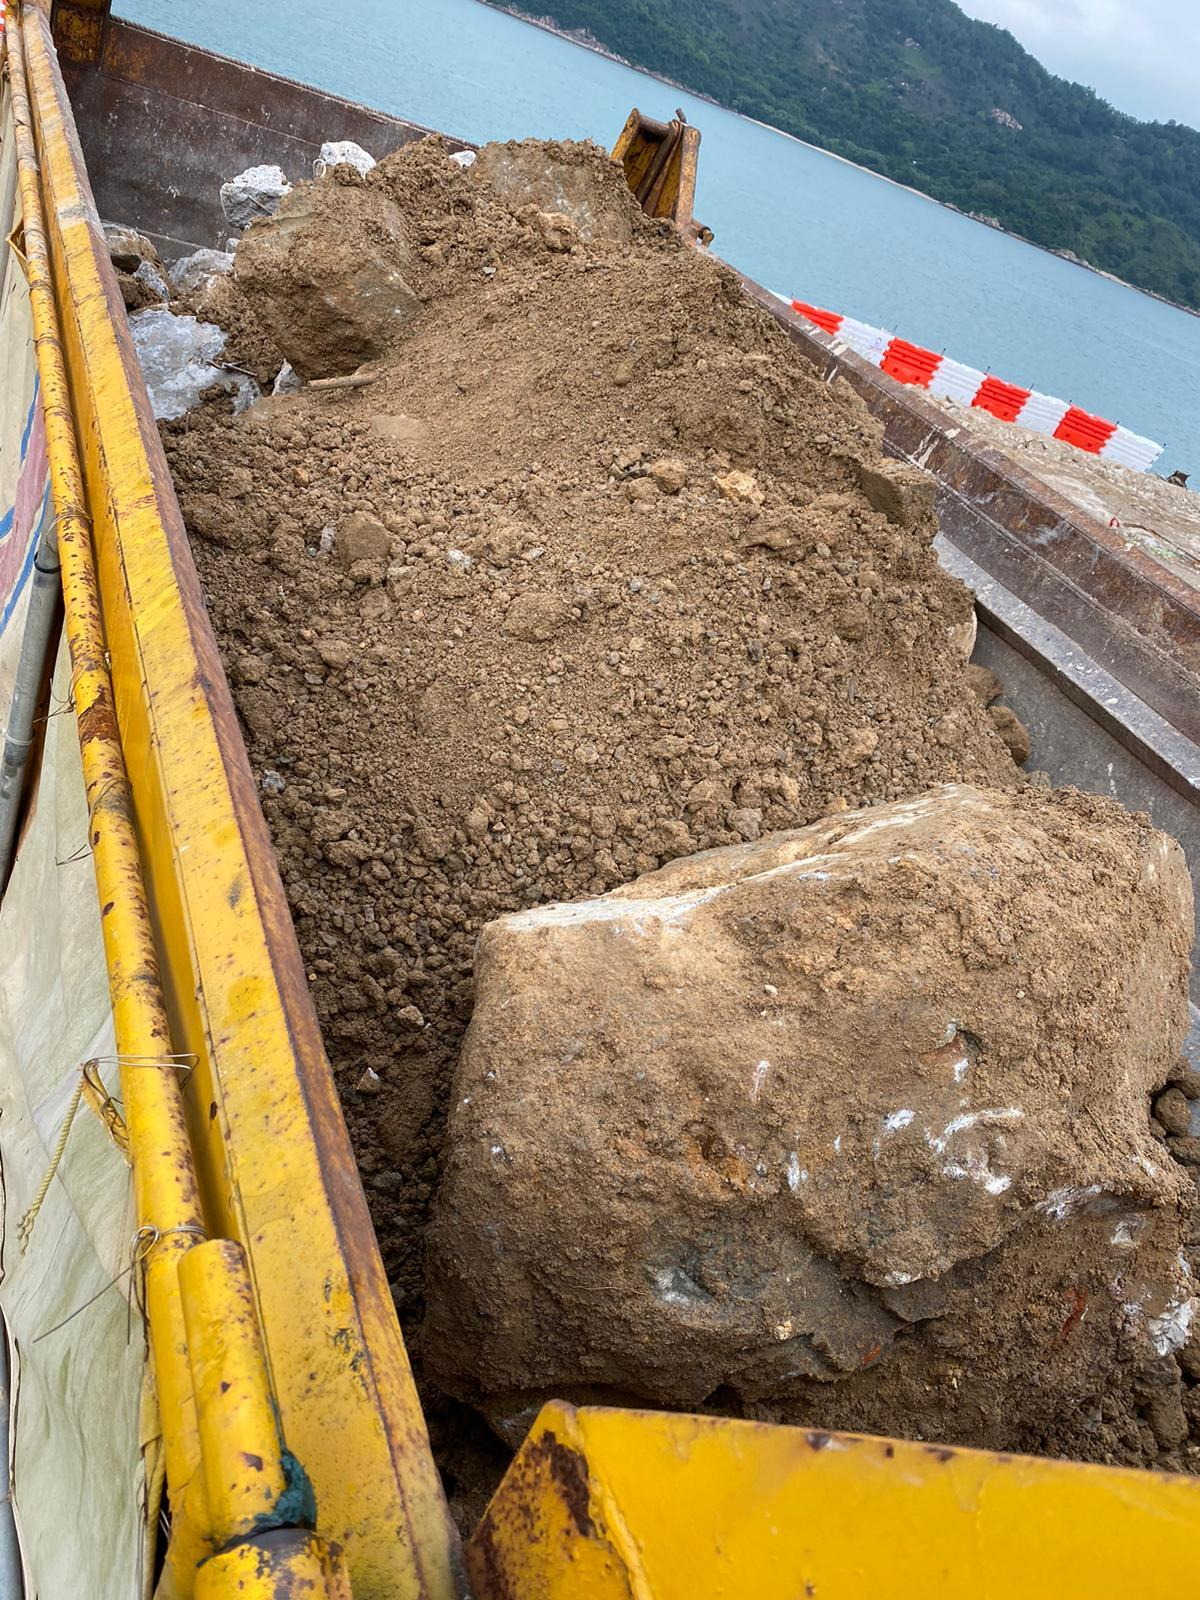dry: (285, 386, 816, 818)
